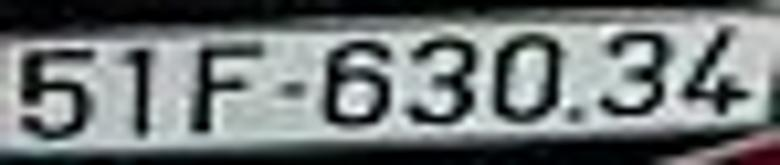-: (274, 79, 308, 108)
.: (564, 103, 586, 128)
0: (487, 32, 564, 129)
1: (122, 42, 158, 143)
3: (406, 36, 478, 126), (603, 29, 672, 122)
4: (676, 23, 761, 122)
5: (19, 46, 101, 146)
6: (321, 41, 392, 131)
F: (192, 36, 265, 137)
